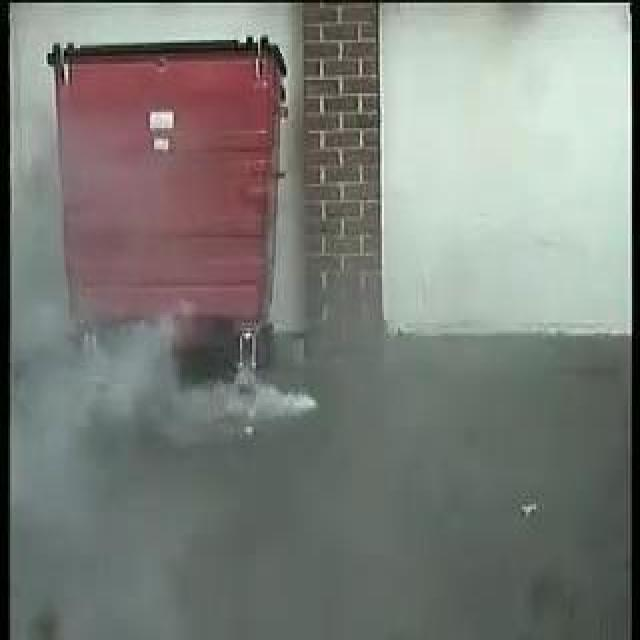Smoke: (112, 317, 316, 427)
